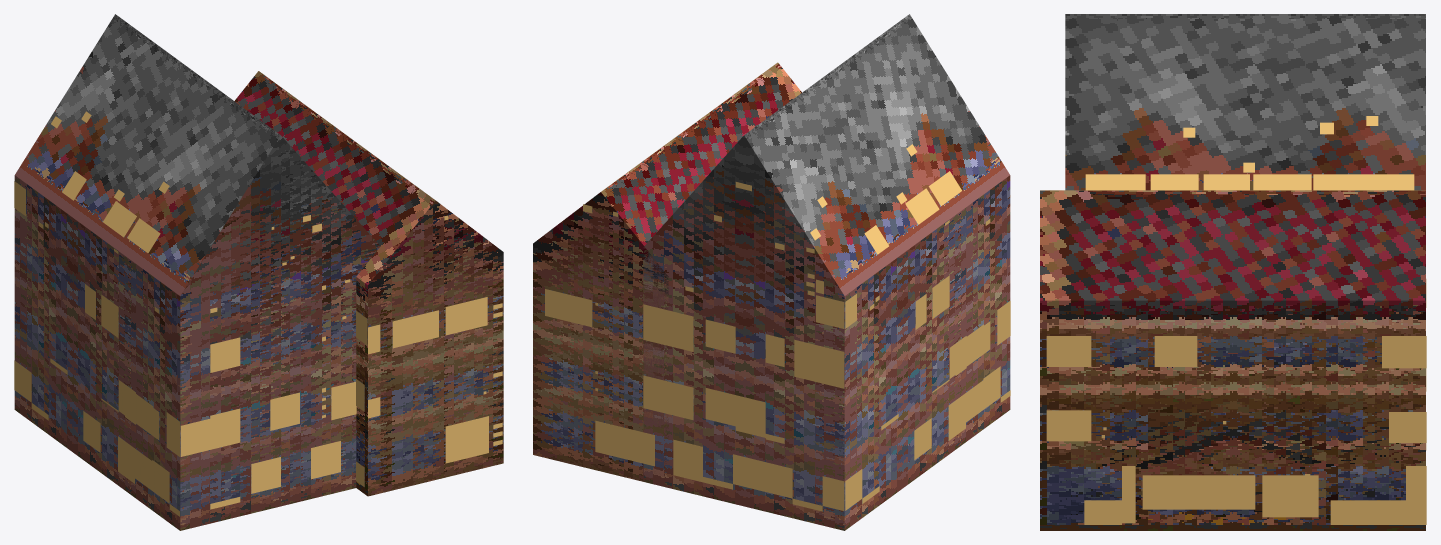
File: dum_3a_obchody.glb
3 views of the same model, side by side, from view 1: azimuth 30°, elevation 25°; view 2: azimuth 150°, elevation 25°; view 3: azimuth 270°, elevation 25° (orthographic). The views are drawn at different scales.
Parts seen in each view (by area): view 1: object 1, noc; view 2: object 1, noc; view 3: object 1, noc.
Boxes of the visible parts, x1,y1,x2,y2 form: object 1: [14, 14, 503, 530]; noc: [14, 111, 502, 516]; object 1: [533, 14, 1010, 530]; noc: [545, 144, 1010, 511]; object 1: [1040, 14, 1425, 530]; noc: [1046, 116, 1426, 524].
Bounding box in the file's own units: 14.38 × 16.31 × 14.15.
Materials: 1 (1 with a texture image).
